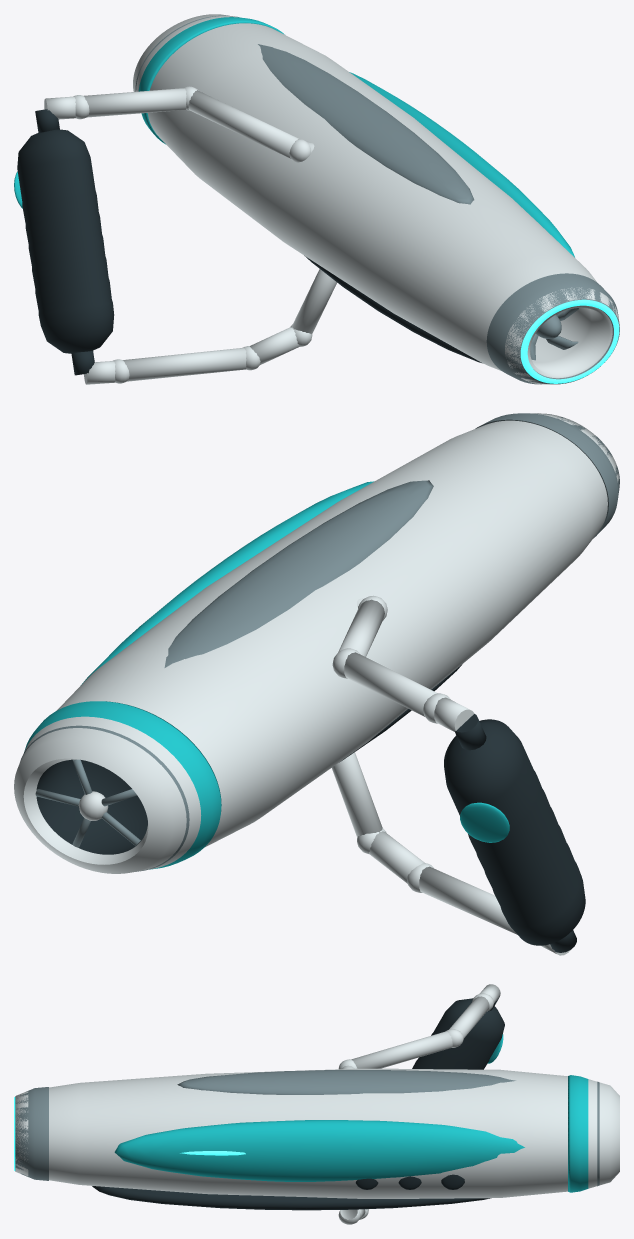
File: hand_thruster.glb
3 views of the same model, one above another, from view 1: azimuth 30°, elevation 25°; view 2: azimuth 150°, elevation 25°; view 3: azimuth 270°, elevation 25° (orthographic). The views are drawn at different scales.
Visible parts, largest first — view 1: Ceramictitanium, Graphiteelastomer, Brushedtitanium, Inlaidturquoise, Statuslight, Impeller; view 2: Ceramictitanium, Graphiteelastomer, Brushedtitanium, Inlaidturquoise; view 3: Ceramictitanium, Inlaidturquoise, Brushedtitanium, Graphiteelastomer, Statuslight.
Part boxes in pixels (box(x1,y1,x2,y2)): Ceramictitanium: box(44, 14, 618, 384); Graphiteelastomer: box(17, 109, 482, 375); Brushedtitanium: box(135, 15, 619, 384); Inlaidturquoise: box(14, 17, 574, 257); Statuslight: box(520, 299, 619, 383); Impeller: box(530, 308, 578, 360); Ceramictitanium: box(14, 413, 618, 955); Graphiteelastomer: box(36, 664, 585, 952); Brushedtitanium: box(20, 413, 619, 871); Inlaidturquoise: box(24, 481, 509, 869); Ceramictitanium: box(15, 984, 619, 1224); Inlaidturquoise: box(114, 1034, 588, 1192); Brushedtitanium: box(15, 1070, 599, 1186); Graphiteelastomer: box(92, 997, 504, 1210); Statuslight: box(14, 1097, 245, 1170).
Bounding box in the file's own units: 0.2092 × 0.1314 × 0.381.
